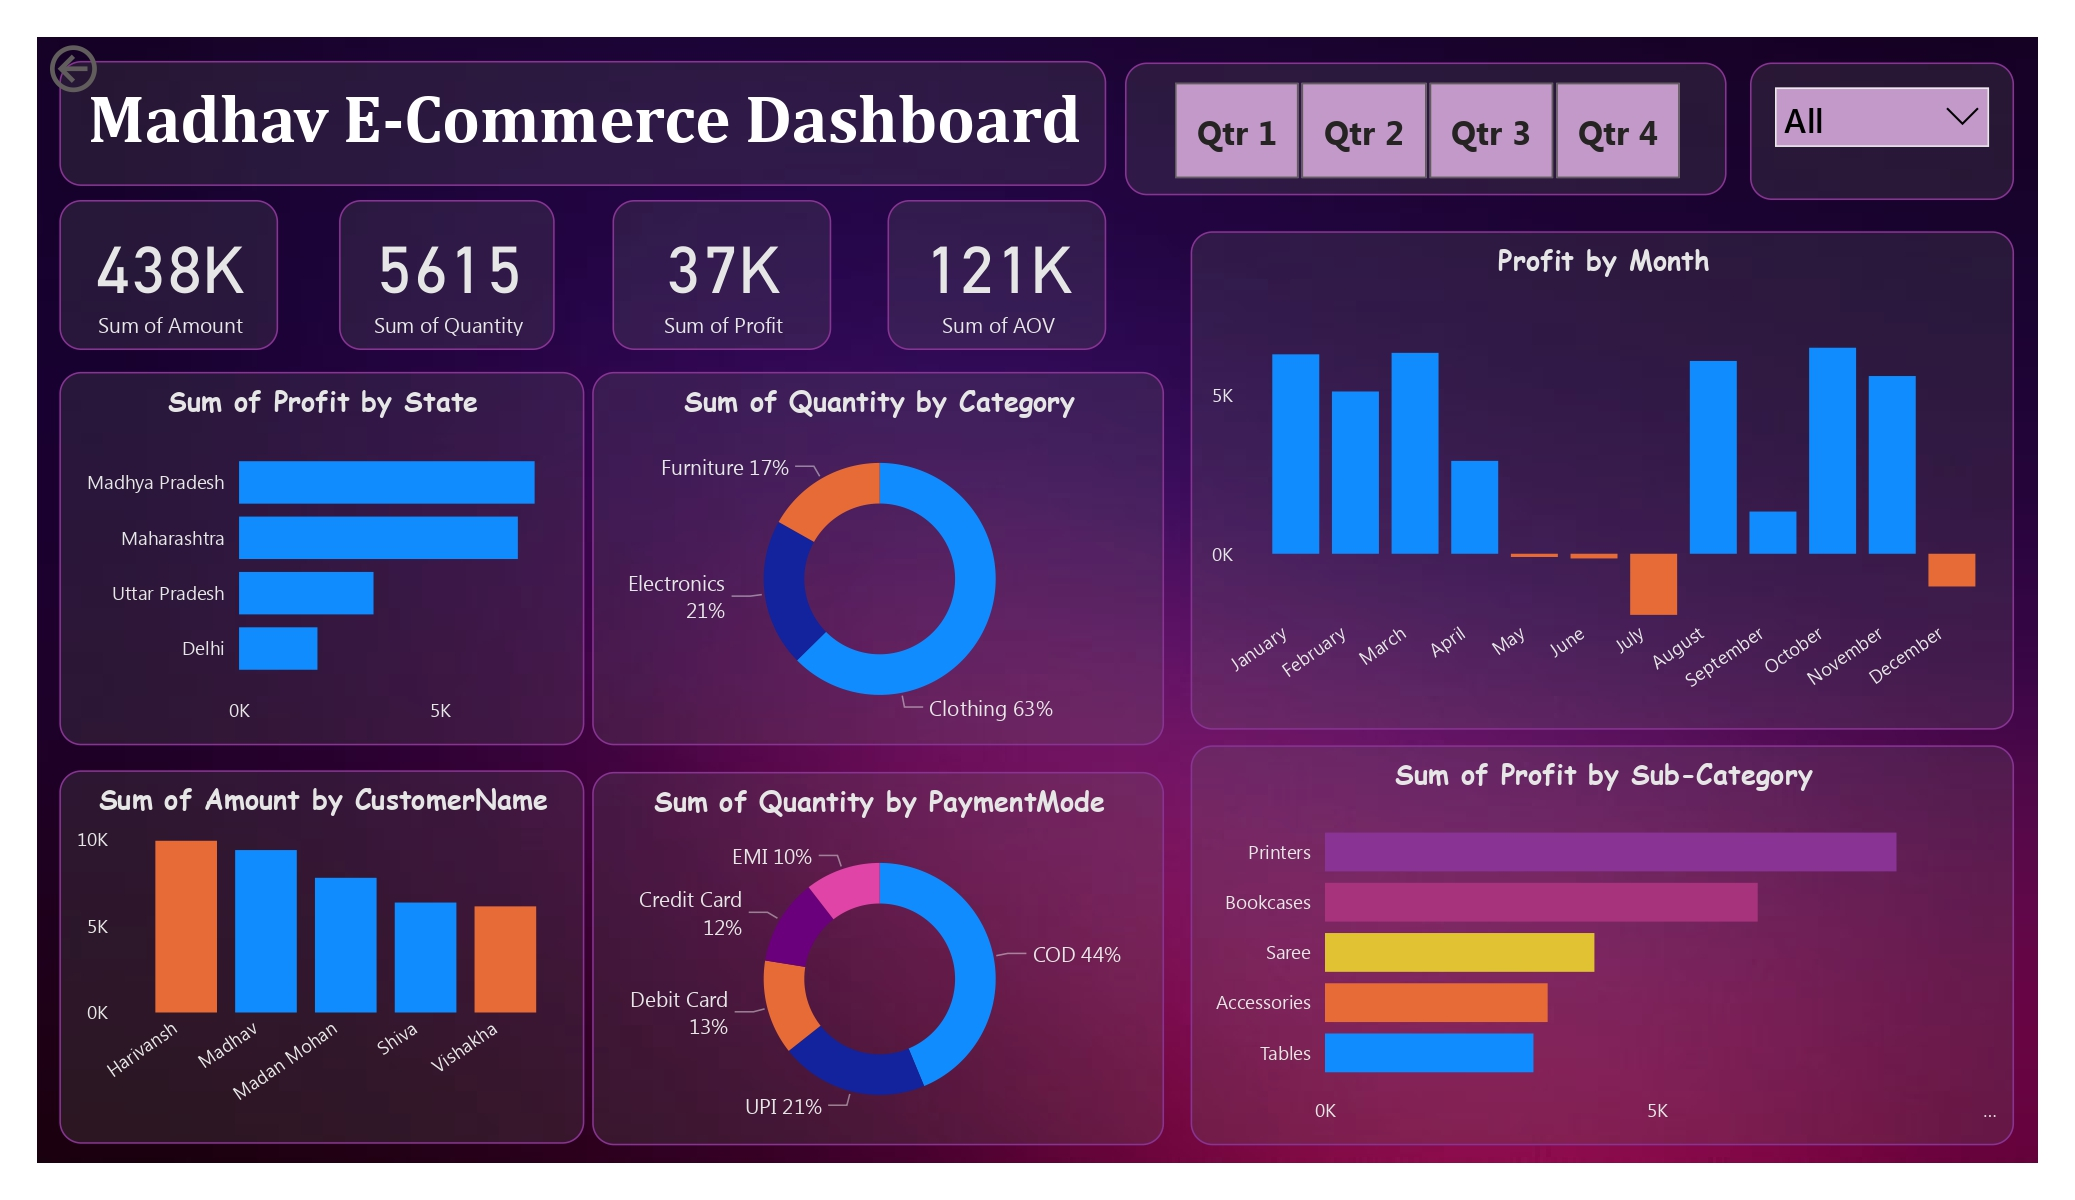

What the dashboard file says about the page in this screenshot:
{"tool":"powerbi","page":{"name":"Page 1","canvas":[1280,720],"ordinal":0},"visuals":[{"type":"textbox","box":[13.8,15,670,80],"z":0},{"type":"columnChart","title":"Profit by Month","fields":{"Category":["Orders.Order Date.Variation.Date Hierarchy.Month"],"Y":["Details.Profit"]},"box":[737.5,123.8,527.5,318.8],"z":1000},{"type":"barChart","fields":{"Category":["Details.Sub-Category"],"Y":["Details.Profit"]},"box":[737.5,452.5,527.5,256.2],"z":2000},{"type":"donutChart","fields":{"Category":["Details.Category"],"Y":["Details.Quantity"]},"box":[355,213.8,366.2,238.8],"z":3000},{"type":"donutChart","fields":{"Y":["Details.Quantity"],"Category":["Details.PaymentMode"]},"box":[355,470,366.2,238.8],"z":4000},{"type":"card","fields":{"Values":["Details.Amount"]},"box":[13.8,103.8,140,96.2],"z":5000},{"type":"card","fields":{"Values":["Details.AOV"]},"box":[543.8,103.8,140,96.2],"z":6000},{"type":"card","fields":{"Values":["Details.Profit"]},"box":[367.5,103.8,140,96.2],"z":7000},{"type":"card","fields":{"Values":["Details.Quantity"]},"box":[192.5,103.8,138.8,96.2],"z":8000},{"type":"barChart","fields":{"Category":["Orders.State"],"Y":["Details.Profit"]},"box":[13.8,213.8,336.2,238.8],"z":9000},{"type":"columnChart","fields":{"Category":["Orders.CustomerName"],"Y":["Details.Amount"]},"box":[13.8,468.8,336.2,238.8],"z":10000},{"type":"slicer","fields":{"Values":["Orders.Order Date.Variation.Date Hierarchy.Quarter"]},"box":[696.2,16.2,385,85],"z":11000},{"type":"actionButton","box":[2.5,0,100,40],"z":13000},{"type":"slicer","fields":{"Values":["Orders.State"]},"box":[1096.3,15.7,168.8,88],"z":13001}]}

Visuals, with their boxes on the page's 1280x720 design canvas (x1, y1, x2, y2). These are canvas units, not pixel positions in the 2075x1200 screenshot, which may show the page scaled, cropped or inside an application window:
textbox: locate(14, 15, 684, 95)
"Profit by Month" columnChart: locate(738, 124, 1265, 443)
barChart - Details.Sub-Category x Details.Profit: locate(738, 452, 1265, 709)
donutChart - Details.Category x Details.Quantity: locate(355, 214, 721, 453)
donutChart - Details.Quantity x Details.PaymentMode: locate(355, 470, 721, 709)
card - Details.Amount: locate(14, 104, 154, 200)
card - Details.AOV: locate(544, 104, 684, 200)
card - Details.Profit: locate(368, 104, 508, 200)
card - Details.Quantity: locate(192, 104, 331, 200)
barChart - Orders.State x Details.Profit: locate(14, 214, 350, 453)
columnChart - Orders.CustomerName x Details.Amount: locate(14, 469, 350, 708)
slicer - Orders.Order Date.Variation.Date Hierarchy.Quarter: locate(696, 16, 1081, 101)
actionButton: locate(2, 0, 102, 40)
slicer - Orders.State: locate(1096, 16, 1265, 104)
